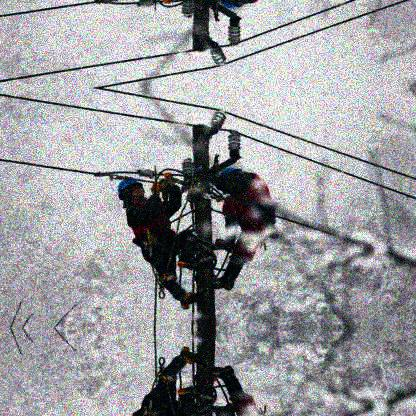helmet: (115, 178, 146, 203)
